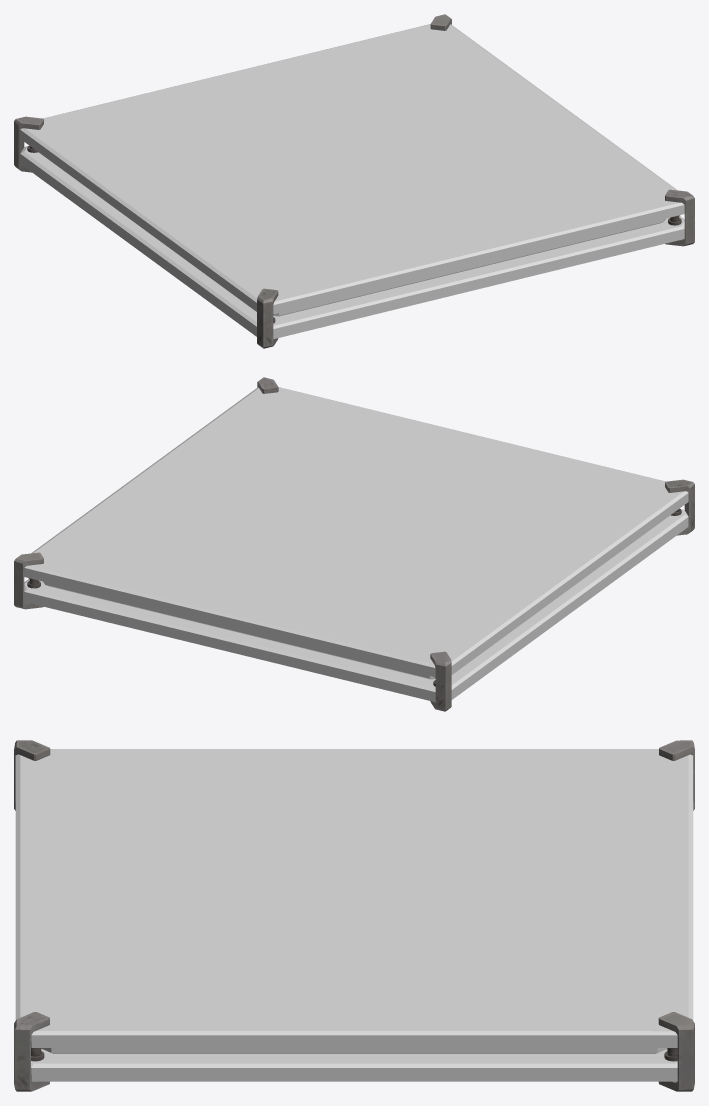
File: SM_Roof_Glass_af29ab.glb
3 renders of one model, top to bottom at view 1: azimuth 30°, elevation 25°; view 2: azimuth 150°, elevation 25°; view 3: azimuth 270°, elevation 25°, orthographic. The views are drawn at different scales.
Size of the model in its own units: 4.01 by 0.4276 by 4.01.
Materials: 2 (1 with a texture image).
